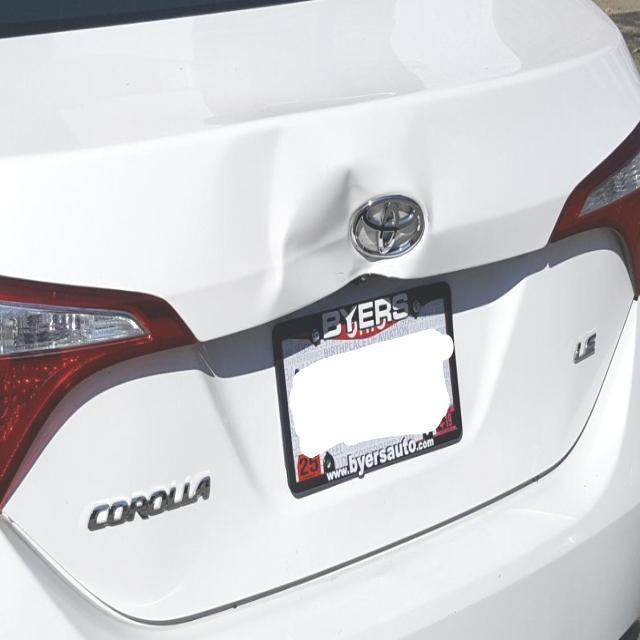minor: (246, 95, 506, 328)
